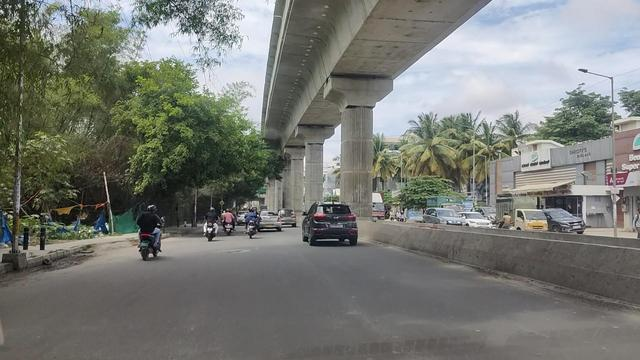LMV: (302, 198, 362, 250), (135, 196, 161, 264), (206, 204, 222, 243), (244, 205, 261, 241)
